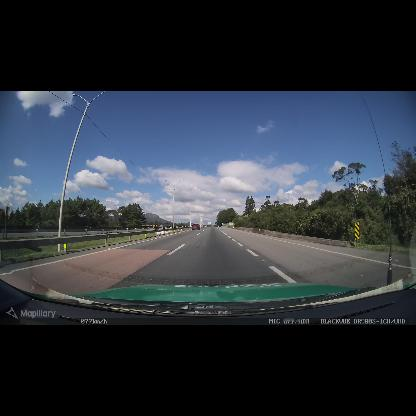O-MP: (354, 222, 360, 240), (153, 225, 155, 230)
